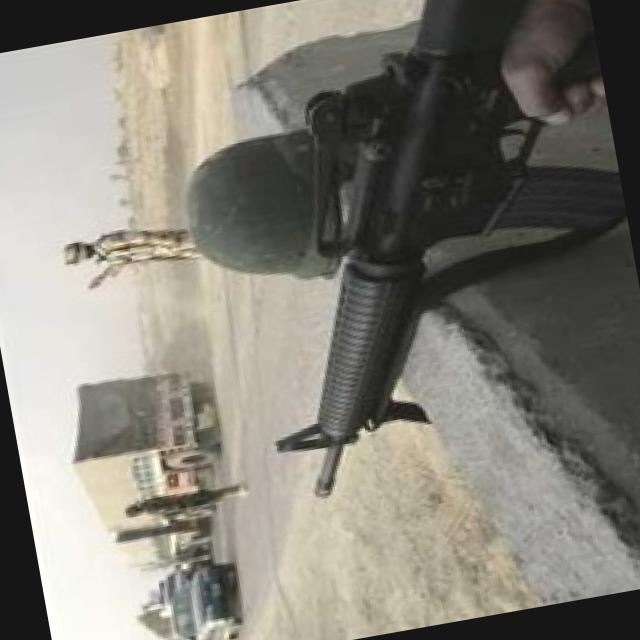long weapon: (230, 0, 601, 521)
